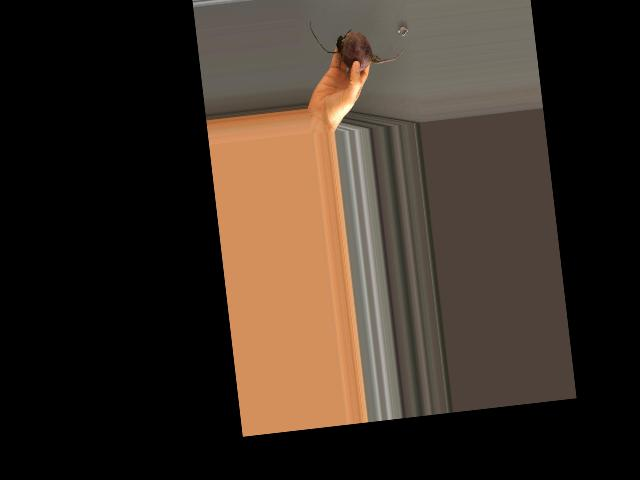beet: (309, 10, 405, 76)
